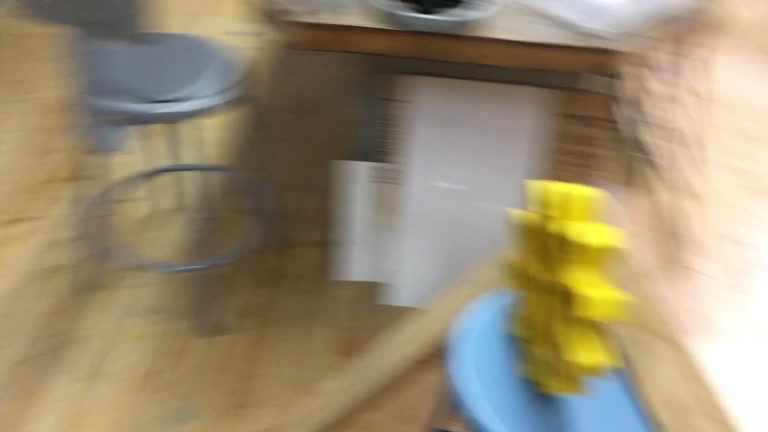gear: (506, 180, 637, 395)
